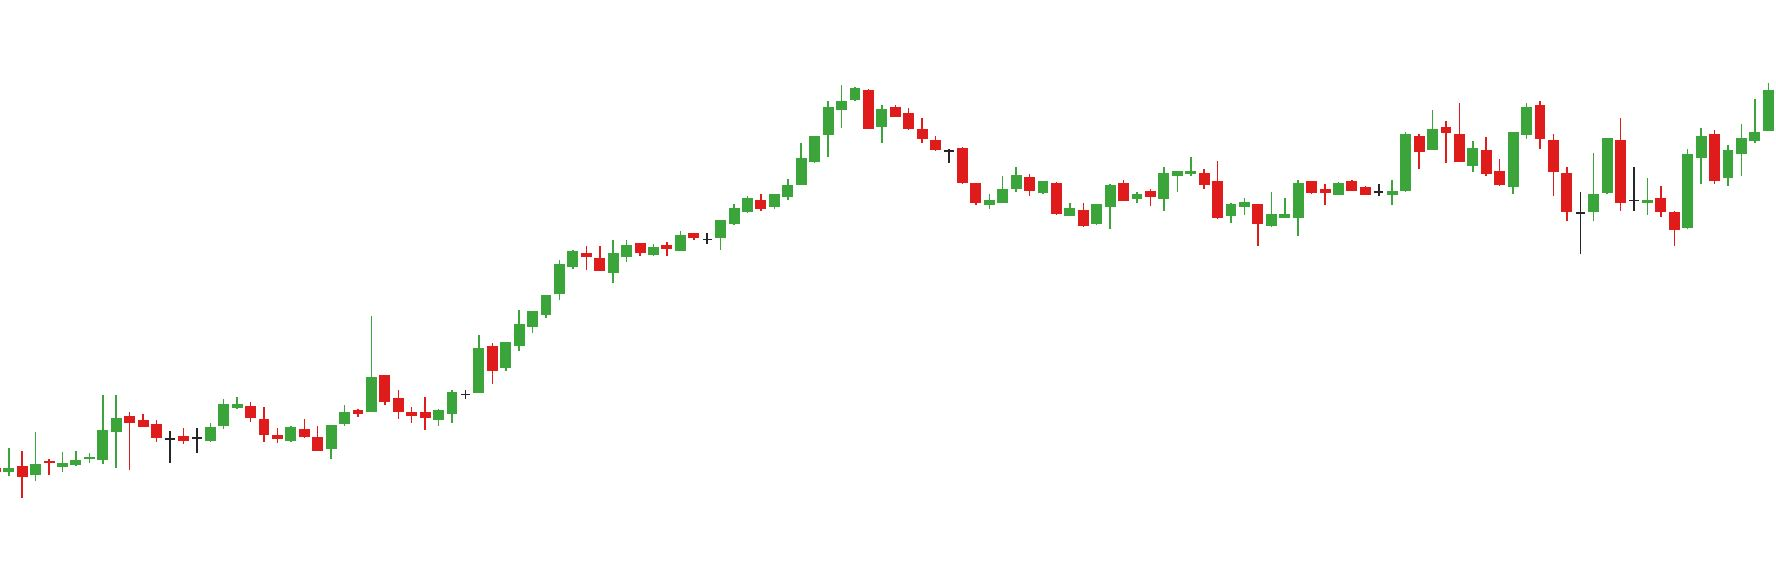sell: (1451, 98, 1548, 175)
